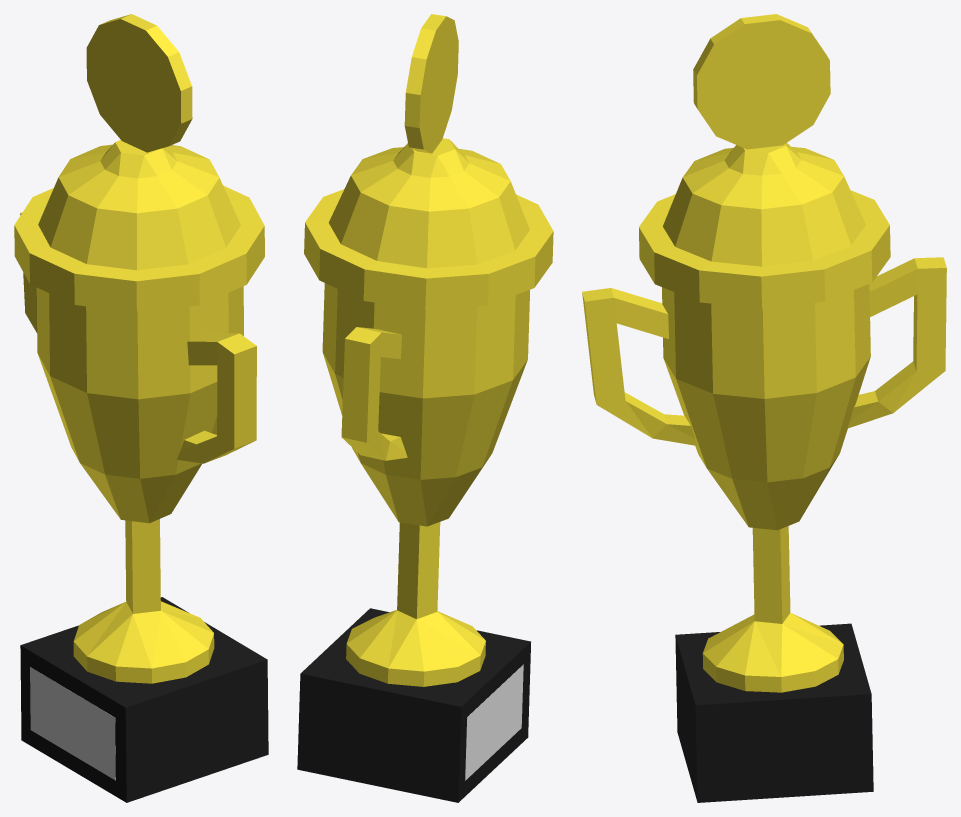
The model's file is trophy1.glb.
3 views of the same model, side by side, from view 1: azimuth 30°, elevation 25°; view 2: azimuth 150°, elevation 25°; view 3: azimuth 270°, elevation 25° (orthographic).
Visible parts, largest first — view 1: group2003853270, group1850572282, group1526004427, group118815495, group850351173, group1306944167, group1804777712; view 2: group2003853270, group1850572282, group1526004427, group118815495, group1804777712, group1306944167; view 3: group2003853270, group1850572282, group118815495, group1526004427, group1804777712, group850351173.
Boxes of the visible parts, x1,y1,x2,y2 form: group2003853270: [14, 140, 264, 523]; group1850572282: [20, 597, 268, 802]; group1526004427: [73, 519, 214, 683]; group118815495: [86, 14, 192, 152]; group850351173: [177, 333, 256, 463]; group1306944167: [30, 667, 115, 780]; group1804777712: [20, 212, 37, 333]; group2003853270: [304, 138, 553, 526]; group1850572282: [297, 608, 530, 802]; group1526004427: [346, 522, 485, 686]; group118815495: [404, 14, 458, 153]; group1804777712: [341, 327, 407, 460]; group1306944167: [465, 664, 523, 780]; group2003853270: [639, 143, 890, 530]; group1850572282: [675, 623, 873, 802]; group118815495: [693, 14, 830, 149]; group1526004427: [702, 526, 843, 692]; group1804777712: [847, 257, 946, 428]; group850351173: [582, 288, 697, 445].
Size of the model in its own units: 0.1421 by 0.4606 by 0.2058.
